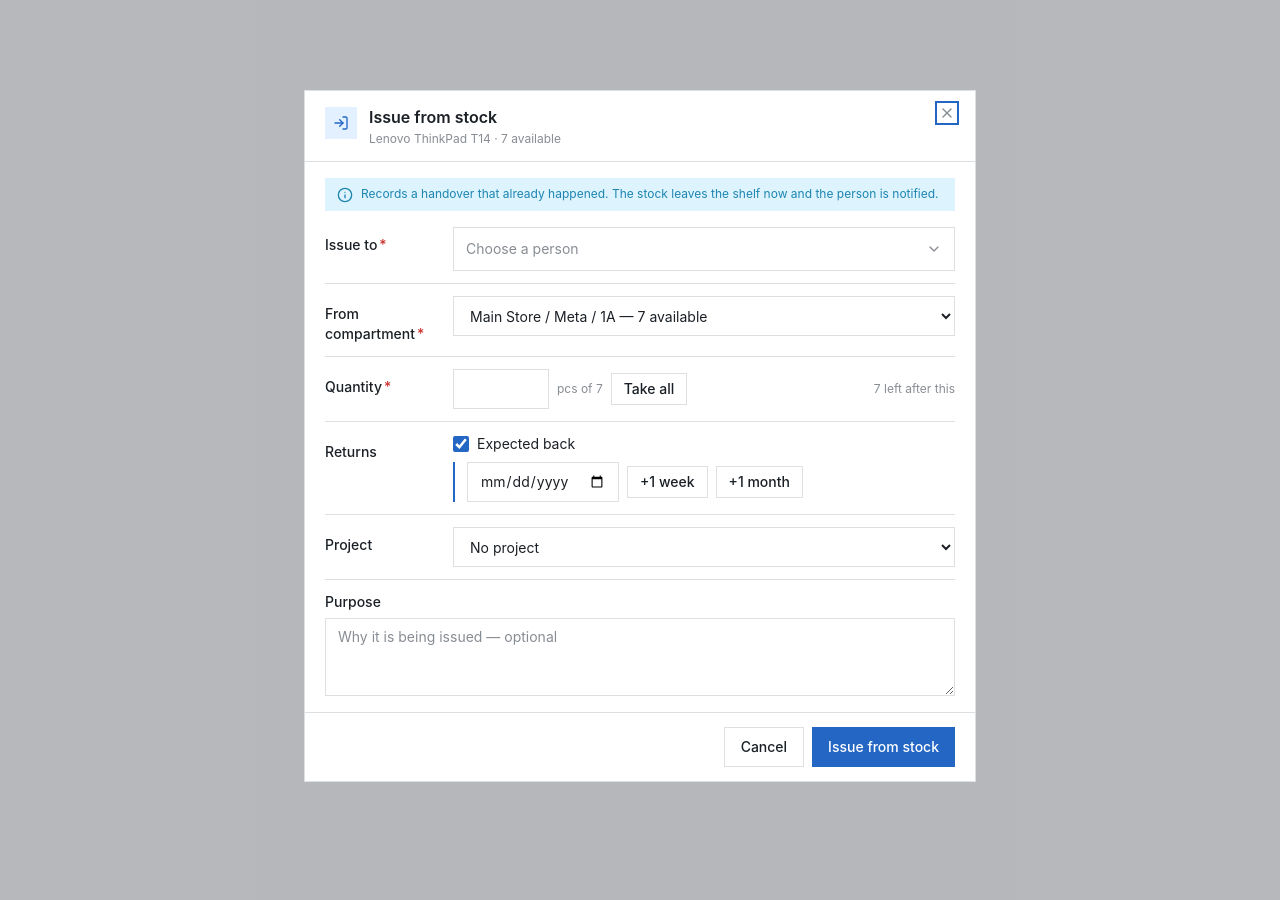
Test case: IssueFromStockDialog › fills the quantity from Take all and says nothing is left
The width and height of the screenshot is (1280, 900).
Click the button "Take all": click(649, 389) [611, 373, 687, 405]
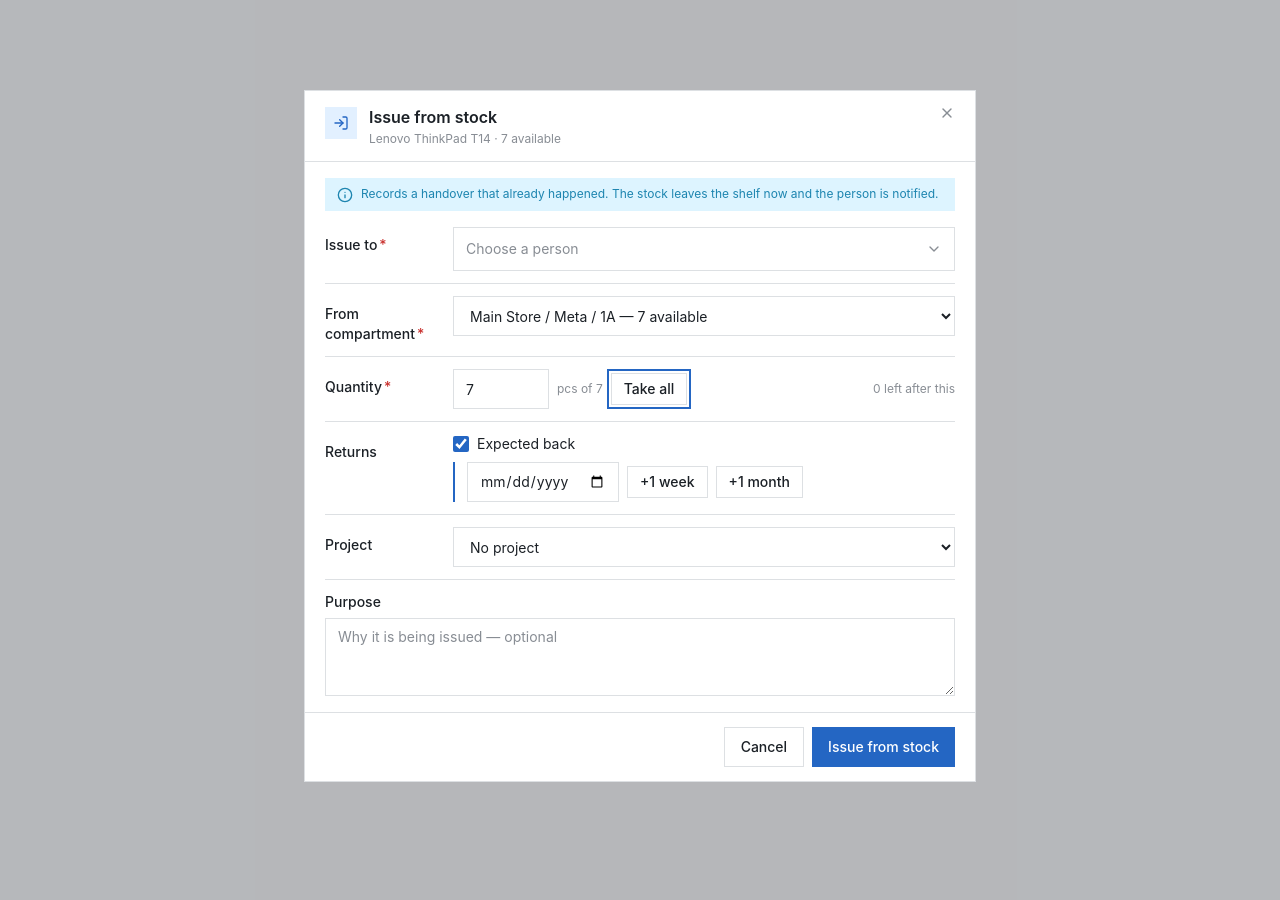
Now the number field named "Quantity" holds "7", box [453, 369, 549, 409]
